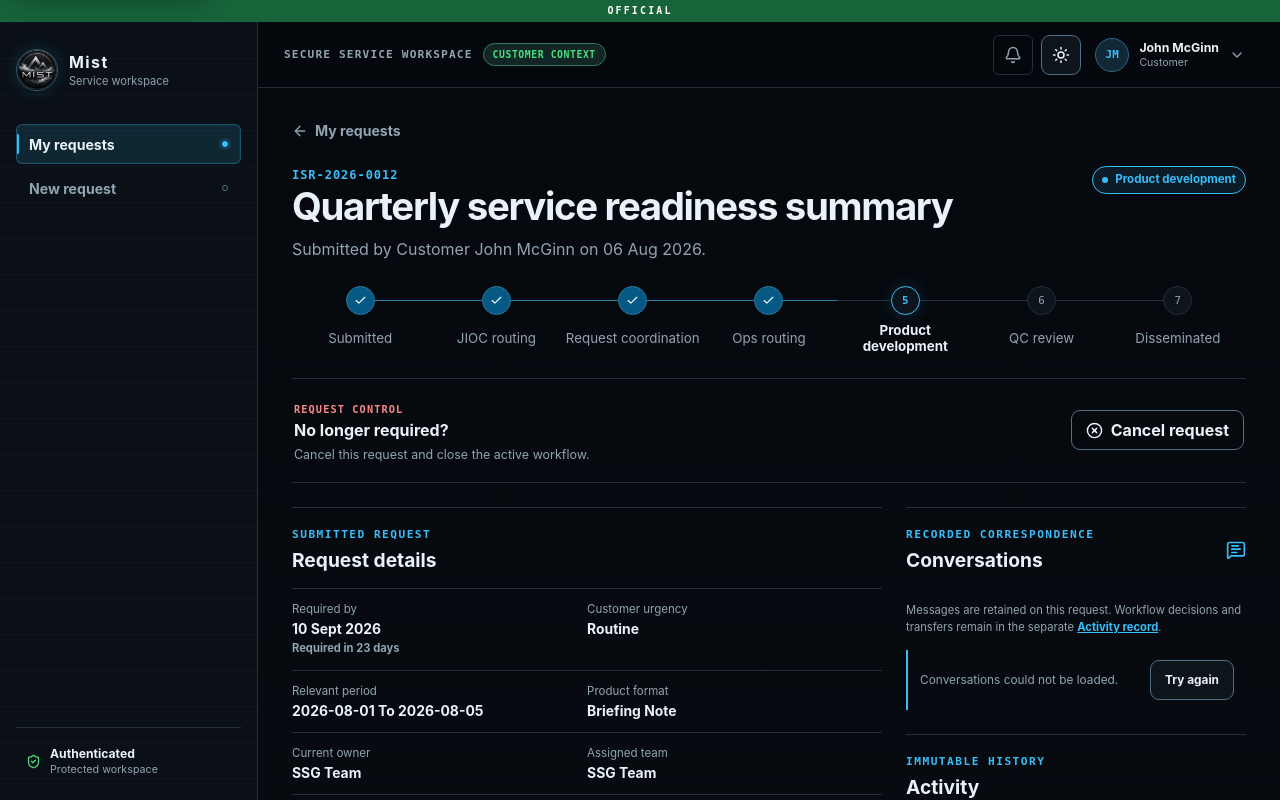
Test: structured request conversations › offers an accessible retry when the ledger cannot be loaded
Check: the text "Conversations could not be loaded." is shown, box [920,673,1118,687]
Click the button "Try again" at (1192, 680), box [1150,660,1234,700]
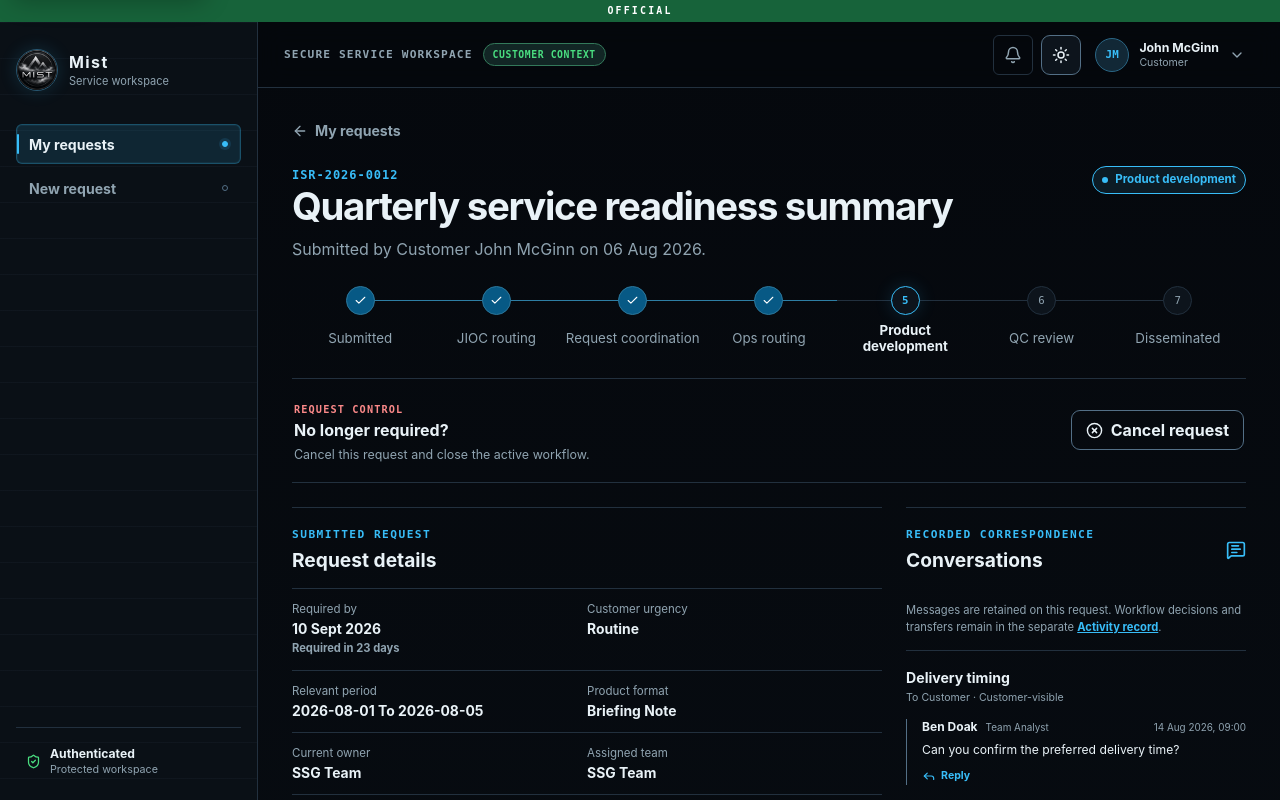
Check: the text "Can you confirm the preferred delivery time?" is shown, box [922,742,1180,757]
